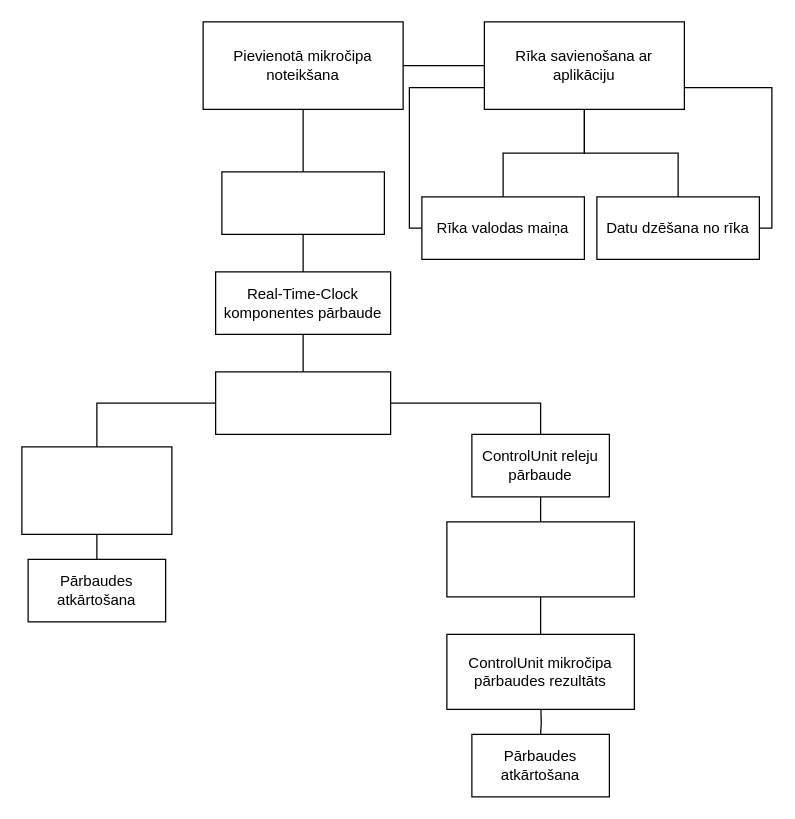
The diagram is 795 pixels wide and 819 high, and some of its shapes have lost their labels. The shapes that lost their labels are listed below. From the top down, each one's centre as x and y in pixels, then its label:
At point 302,202: "Komponenšu pārbaudes sākšana".
At point 302,402: "EEPROM komponentes pārbaude".
At point 96,490: "TTunit mikročipa pārbaudes rezultāts".
At point 540,559: "ControlUnit Wiegand karšu lasītāja pārbaude".
